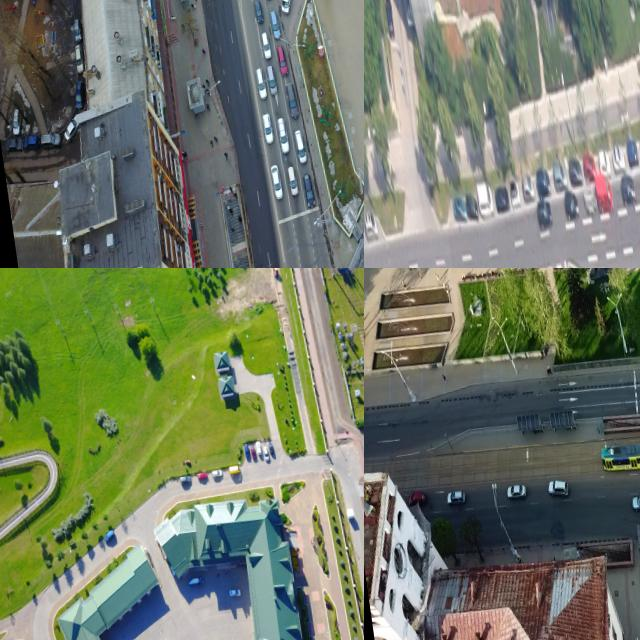UAI: (596, 177, 615, 213), (269, 163, 286, 203), (301, 169, 317, 210), (477, 182, 495, 218), (276, 115, 291, 155), (254, 64, 269, 102), (285, 81, 300, 119), (294, 128, 309, 166), (546, 478, 571, 500), (536, 198, 554, 228), (564, 190, 581, 221), (494, 185, 511, 214), (276, 44, 290, 79), (261, 112, 275, 147), (621, 175, 637, 205), (536, 168, 552, 198), (553, 162, 569, 192), (266, 63, 280, 97), (286, 165, 300, 199), (268, 10, 283, 41), (364, 211, 379, 241), (612, 143, 627, 173), (568, 158, 584, 186), (452, 195, 468, 222), (384, 0, 395, 37), (407, 489, 428, 508), (598, 150, 612, 178), (627, 138, 640, 168), (466, 193, 480, 220), (583, 154, 597, 181), (506, 483, 528, 500), (260, 32, 273, 60), (446, 489, 467, 506), (252, 0, 265, 27), (584, 187, 597, 214), (522, 177, 536, 201), (510, 181, 521, 207), (103, 529, 116, 543), (631, 492, 640, 512), (229, 588, 242, 598), (263, 446, 271, 462), (250, 445, 257, 461), (244, 443, 251, 459), (211, 469, 223, 478), (180, 475, 192, 484), (256, 441, 263, 456), (268, 441, 275, 455), (197, 472, 209, 480)
car: (600, 439, 640, 475)
harvester: (275, 0, 297, 13), (188, 576, 205, 588), (229, 465, 242, 476)
